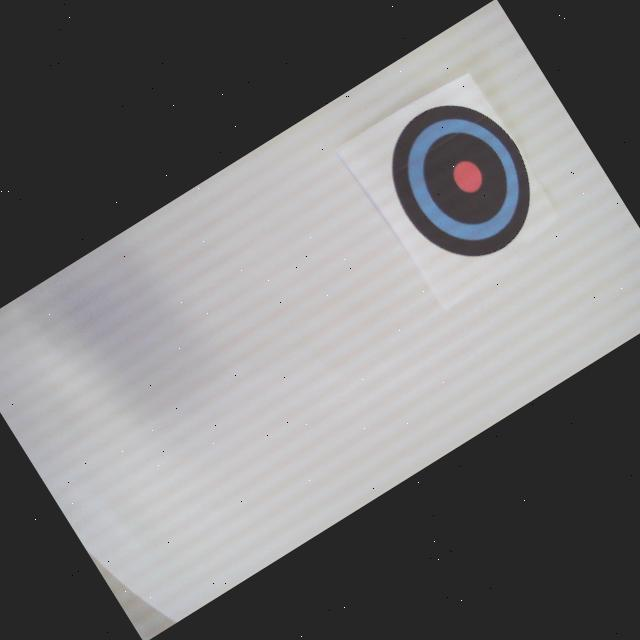COGNITIVE: (363, 76, 560, 281)
